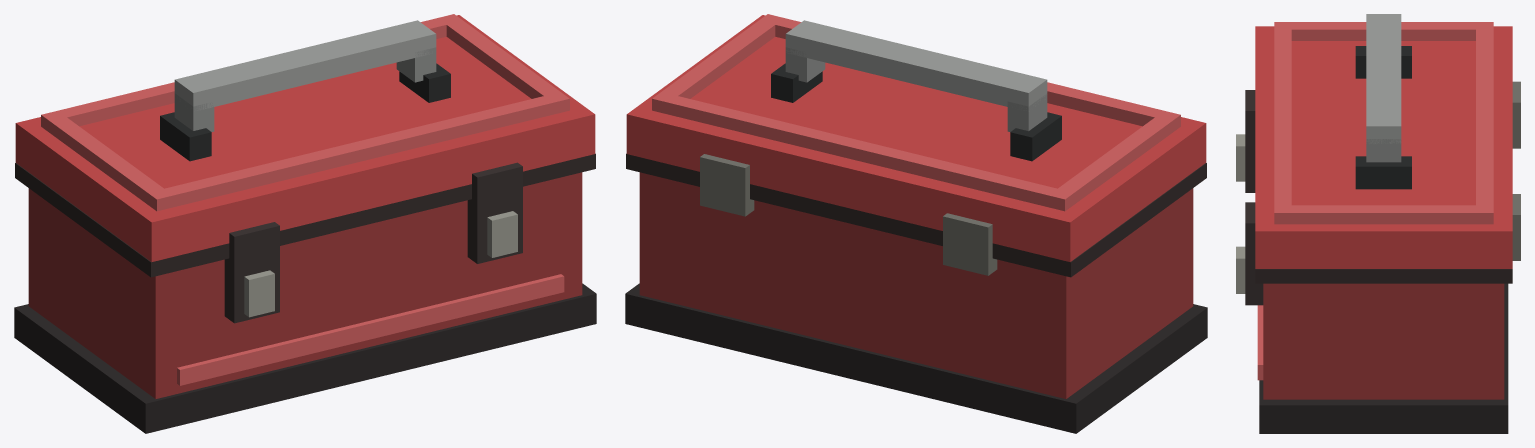
Rendered from CMU3DEmergencyToolbox.glb.
3 renders of one model, left to right at view 1: azimuth 30°, elevation 25°; view 2: azimuth 150°, elevation 25°; view 3: azimuth 270°, elevation 25°, orthographic. The views are drawn at different scales.
Visible parts, largest first — view 1: colored box body, closed lid, dark lower shell, lid end bevel (×2), raised carry handle, lid seam, front lower strengthening lip, latch housing (×2), lid side bevel (×2), handle mounting pivot (×2), steel latch (×2), raised handle left (+1 smaller); view 2: colored box body, closed lid, dark lower shell, lid end bevel (×2), raised carry handle, lid seam, lid side bevel (×2), rear hinge (×2), handle mounting pivot (×2), raised handle left, raised handle right; view 3: closed lid, colored box body, dark lower shell, lid side bevel (×2), lid end bevel (×2), raised carry handle, lid seam, handle mounting pivot (×2), latch housing (×2), rear hinge (×2), steel latch (×2), raised handle right (+1 smaller).
Boxes of the visible parts, <box> form: colored box body: <box>28,172,582,398</box>; closed lid: <box>15,15,595,261</box>; dark lower shell: <box>14,283,596,433</box>; lid end bevel (×2): <box>58,18,553,206</box>; raised carry handle: <box>174,20,436,110</box>; lid seam: <box>15,153,595,277</box>; front lower strengthening lip: <box>177,274,564,385</box>; latch housing (×2): <box>224,162,522,323</box>; lid side bevel (×2): <box>41,14,569,211</box>; handle mounting pivot (×2): <box>160,63,450,161</box>; steel latch (×2): <box>244,211,517,317</box>; raised handle left: <box>174,93,214,131</box>; colored box body: <box>639,172,1193,398</box>; closed lid: <box>626,15,1206,261</box>; dark lower shell: <box>625,283,1207,433</box>; lid end bevel (×2): <box>668,18,1163,206</box>; raised carry handle: <box>785,20,1047,111</box>; lid seam: <box>626,153,1206,277</box>; lid side bevel (×2): <box>652,14,1180,211</box>; rear hinge (×2): <box>700,154,997,275</box>; handle mounting pivot (×2): <box>771,63,1061,161</box>; raised handle left: <box>1007,93,1047,131</box>; raised handle right: <box>785,47,825,82</box>; closed lid: <box>1255,26,1512,268</box>; colored box body: <box>1263,283,1504,399</box>; dark lower shell: <box>1259,283,1508,433</box>; lid side bevel (×2): <box>1274,22,1493,224</box>; lid end bevel (×2): <box>1274,29,1493,205</box>; raised carry handle: <box>1366,14,1401,143</box>; lid seam: <box>1255,269,1512,283</box>; handle mounting pivot (×2): <box>1355,46,1411,189</box>; latch housing (×2): <box>1245,90,1263,305</box>; rear hinge (×2): <box>1512,81,1520,260</box>; steel latch (×2): <box>1236,134,1245,293</box>; raised handle right: <box>1366,139,1401,162</box>.
Size of the model in its own units: 0.594 by 0.345 by 0.343.
